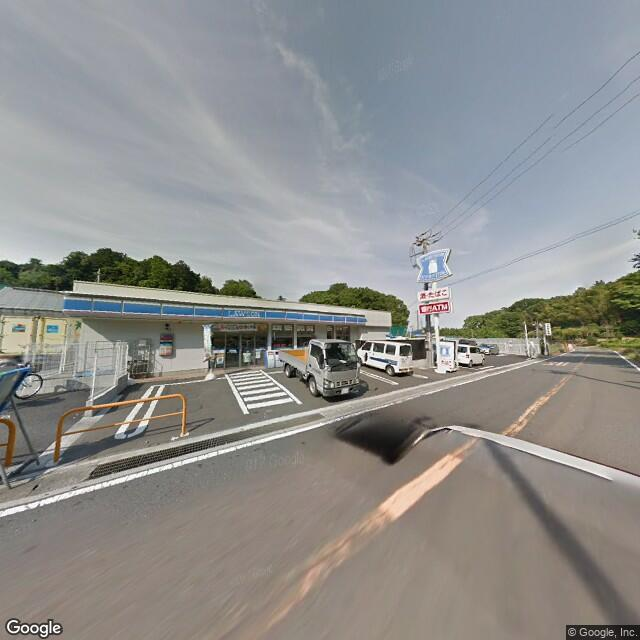lawson: (59, 291, 368, 331), (416, 243, 451, 284)
